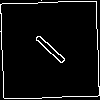I: (25, 25, 69, 67)
